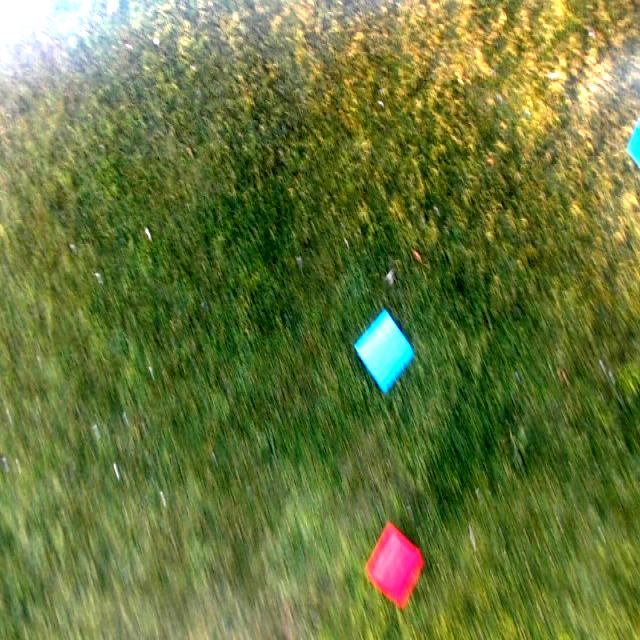blue_square: (352, 310, 415, 394)
red_square: (364, 523, 423, 608)
